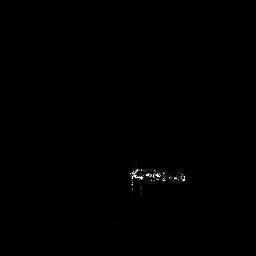ship: (126, 164, 190, 196)
